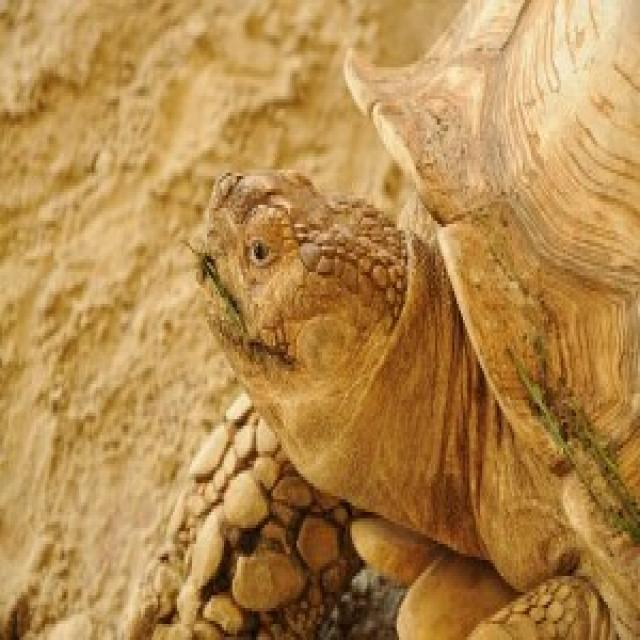Sea turtle: (178, 2, 640, 640)
